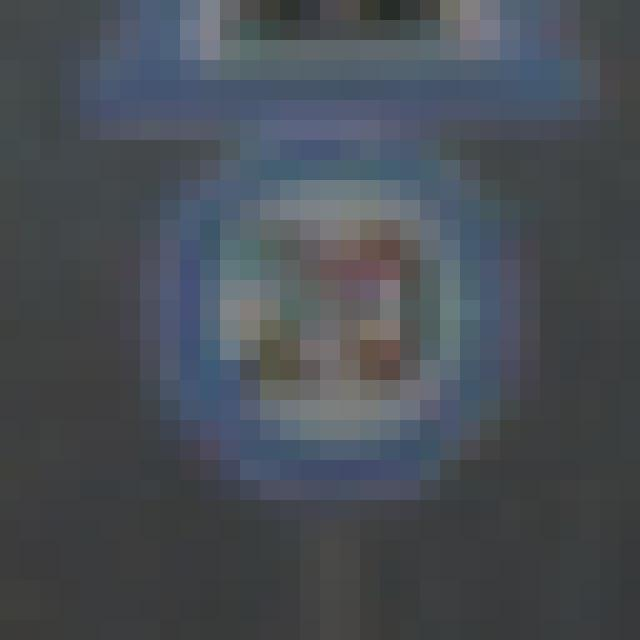SPEED LIMIT 20: (177, 157, 510, 472)
